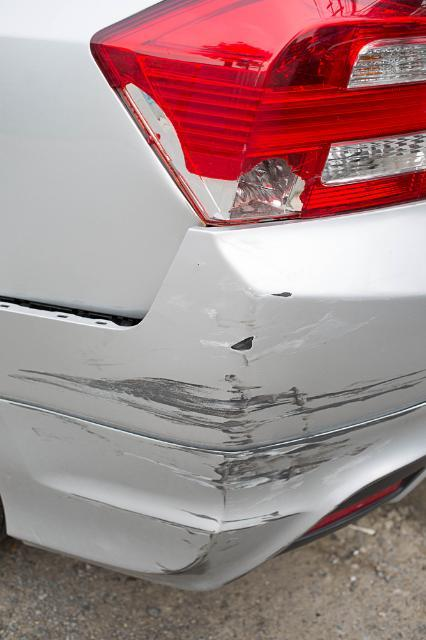lamp broken: (91, 0, 426, 225)
scratch: (0, 278, 426, 452), (53, 405, 425, 577)
